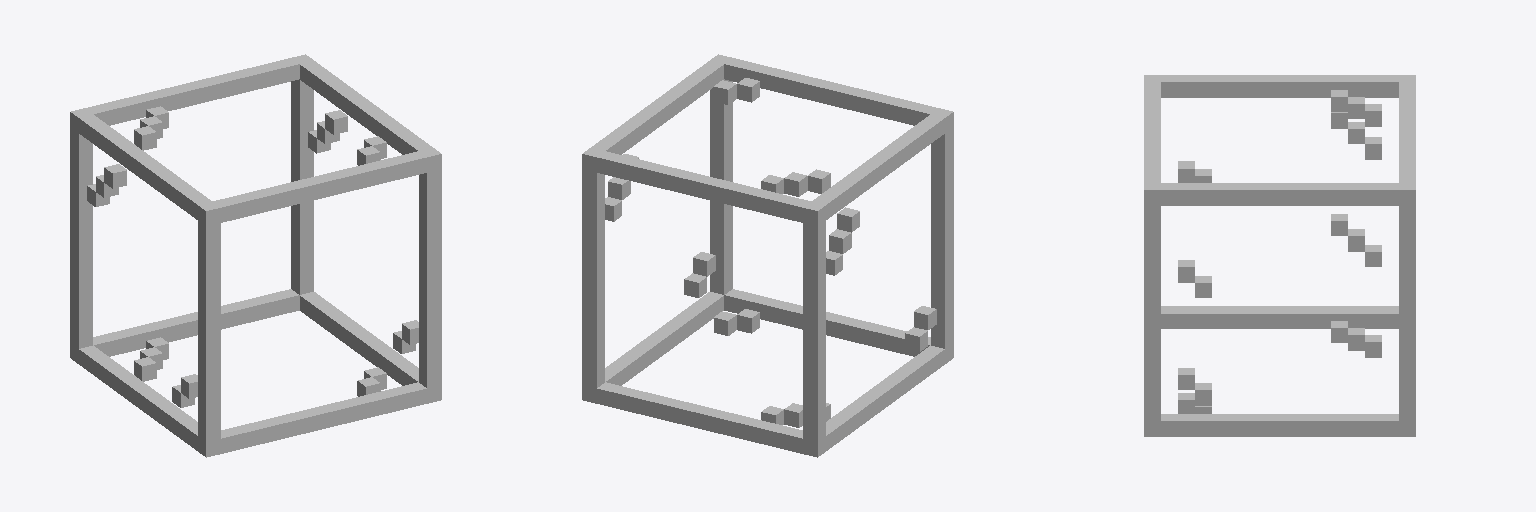
File: glass 1.obj
The picture shows the model from 3 angles: view 1: azimuth 30°, elevation 25°; view 2: azimuth 150°, elevation 25°; view 3: azimuth 270°, elevation 25°; orthographic projection.
Parts seen in each view (by area): view 1: object 1; view 2: object 1; view 3: object 1.
Part boxes in pixels (x1,y1,x2,y2): object 1: (70, 54, 441, 457); object 1: (582, 54, 953, 457); object 1: (1144, 75, 1415, 436).
Size of the model in its own units: 1.6 by 1.6 by 1.6.